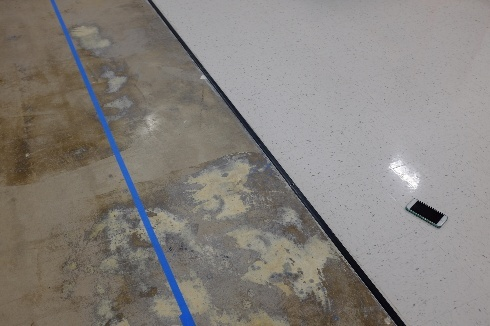phone: (399, 194, 448, 226)
